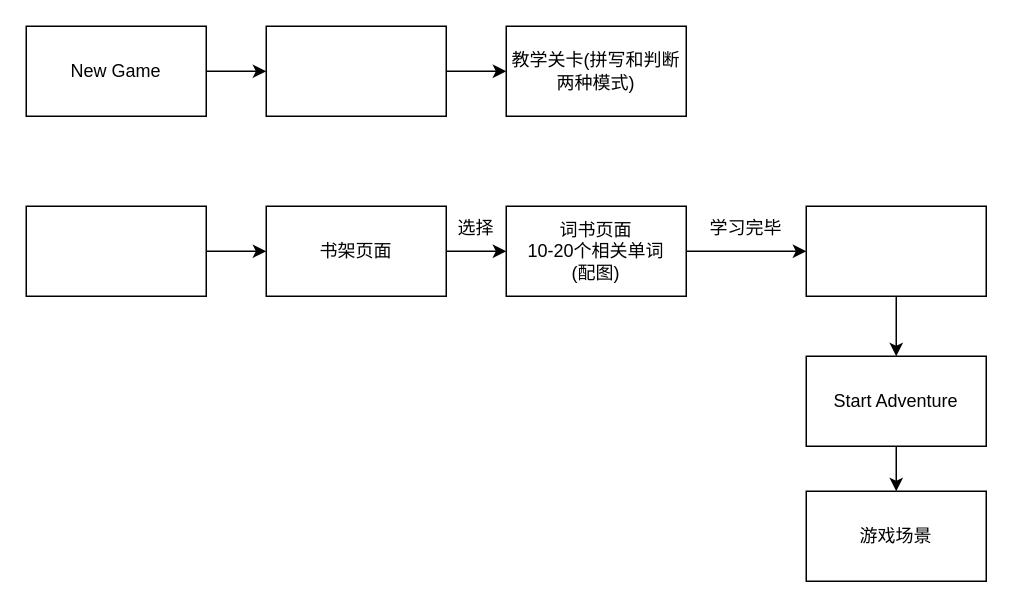
Some shapes in this 1013 by 608 pixel diagram are drawn without their labels. The shapes that lost their labels are listed below. From the top down, each one's centre as x and y in pixels, then its label:
At (x=355, y=70): "文字描述故事背景".
At (x=115, y=250): "Library".
At (x=895, y=250): "导师指导检测".
